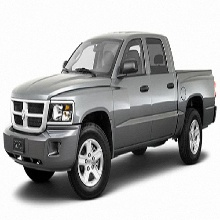no damage: (3, 31, 217, 200)
